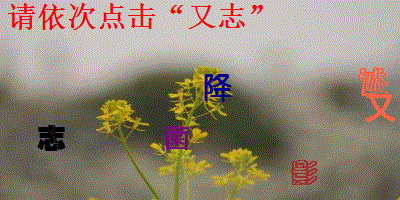text: (356, 66, 391, 97), (202, 72, 233, 105), (36, 123, 67, 153), (366, 94, 396, 124), (162, 123, 192, 152), (289, 158, 319, 187)
